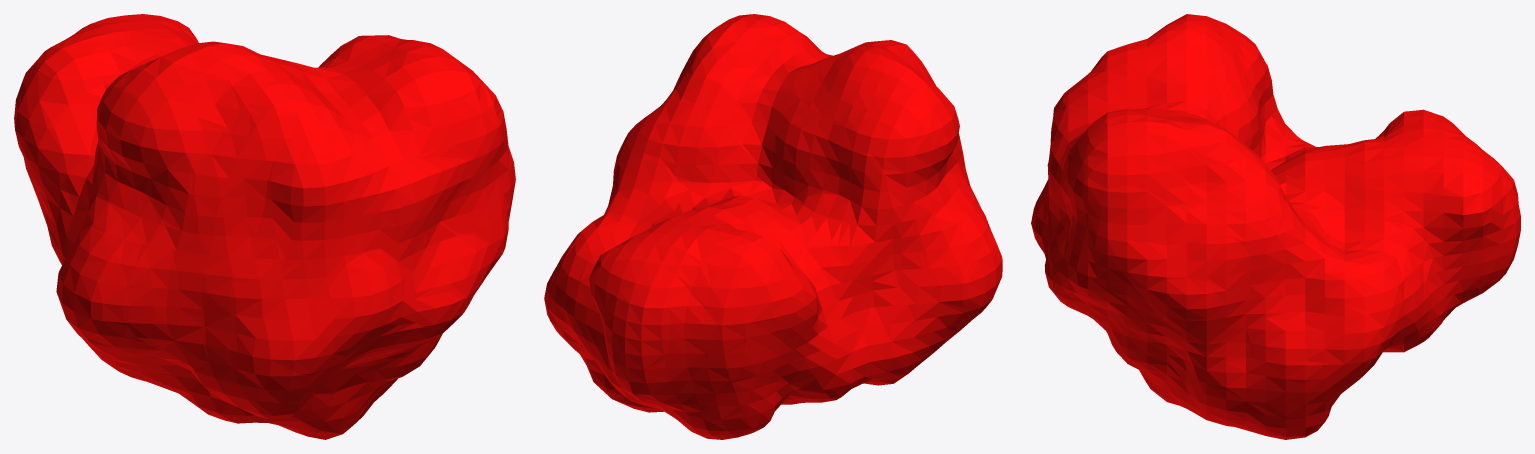
The model's file is tgt_coarse.dae.
3 renders of one model, left to right at view 1: azimuth 30°, elevation 25°; view 2: azimuth 150°, elevation 25°; view 3: azimuth 270°, elevation 25°, orthographic. The views are drawn at different scales.
Parts seen in each view (by area): view 1: tgt; view 2: tgt; view 3: tgt.
Boxes of the visible parts, x1,y1,x2,y2 form: tgt: (14,14,515,439); tgt: (544,14,1002,439); tgt: (1031,14,1520,439).
Bounding box in the file's own units: 54.65 × 51.4 × 67.7.
